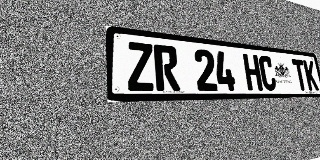2: (193, 48, 218, 91)
4: (213, 51, 236, 91)
C: (258, 55, 277, 91)
H: (242, 54, 263, 91)
K: (303, 60, 319, 90)
R: (153, 44, 180, 91)
T: (291, 59, 308, 90)
Z: (126, 41, 155, 91)
